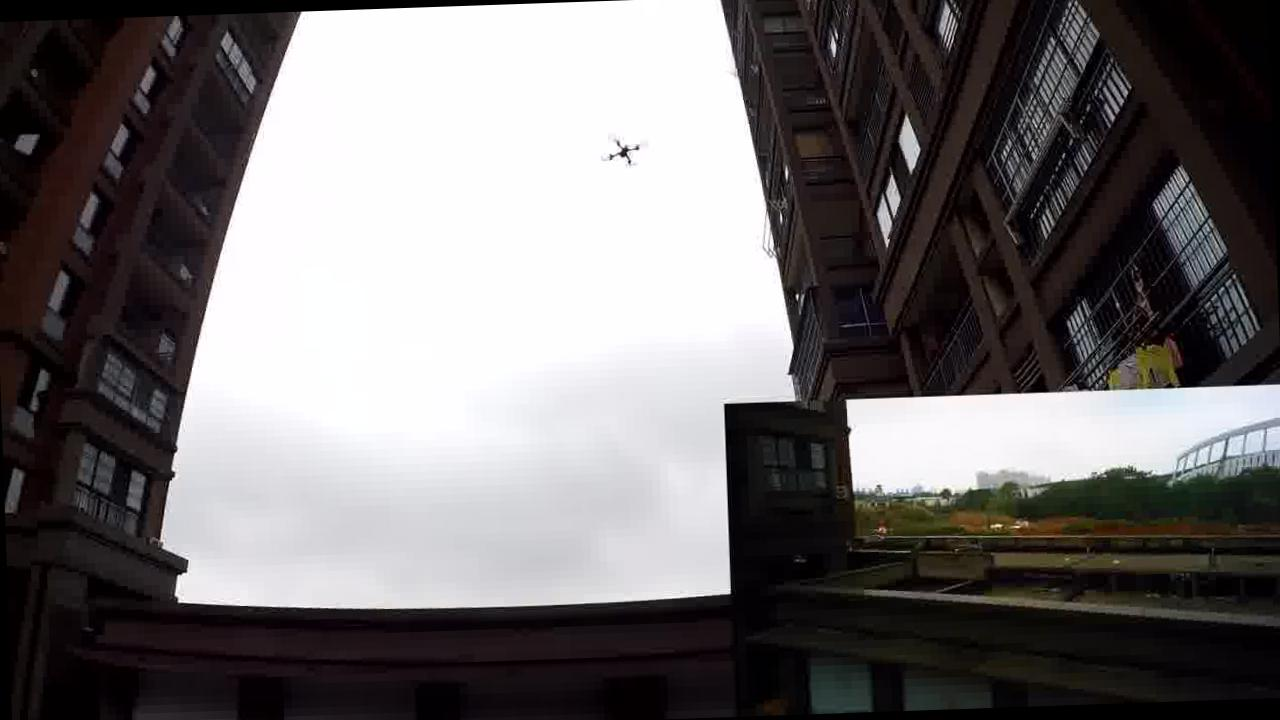drone: (598, 134, 646, 168)
